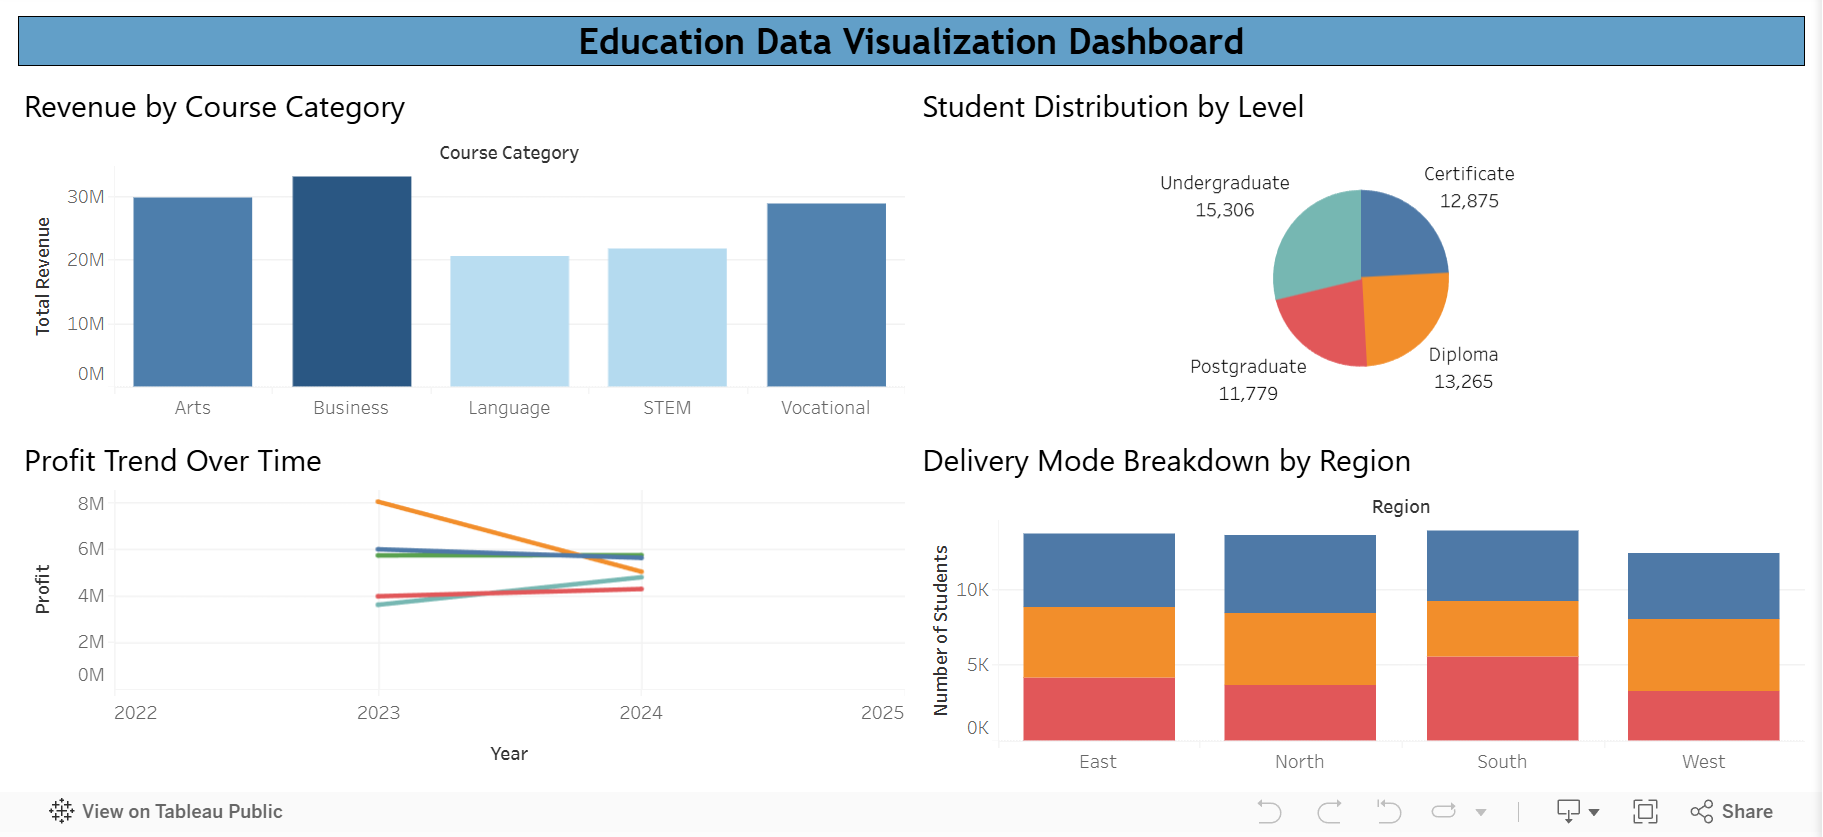

This screenshot's page, from the dashboard's own definition file:
{"tool":"tableau","page":{"name":"Dashboard 1","canvas":[1000,1000],"units":"permille","ordinal":0},"visuals":[{"type":"text","box":[5,10.7,990,79.1]},{"type":"worksheet","title":"Sheet 1","mark":"Automatic","rows":["Total_Revenue"],"cols":["Course_Category"],"box":[5,89.8,495,449.7]},{"type":"worksheet","title":"Sheet 4","mark":"Pie","box":[500,89.8,495,449.7]},{"type":"worksheet","title":"Sheet 3","mark":"Line","rows":["Profit"],"cols":["Year"],"box":[5,539.5,495,449.7]},{"type":"worksheet","title":"Sheet 2","mark":"Bar","rows":["Number_of_Students"],"cols":["Region"],"box":[500,539.5,495,449.7]}]}

Visuals, with their boxes on the dashboard's canvas, which has no fixed pixel size, in thousandths of its width and height (x1, y1, x2, y2). These are canvas units, not pixel positions in the 1823x837 screenshot, which may show the page scaled, cropped or inside an application window:
text: left=5, top=11, right=995, bottom=90
"Sheet 1" worksheet: left=5, top=90, right=500, bottom=540
"Sheet 4" worksheet (Pie marks): left=500, top=90, right=995, bottom=540
"Sheet 3" worksheet (Line marks): left=5, top=540, right=500, bottom=989
"Sheet 2" worksheet (Bar marks): left=500, top=540, right=995, bottom=989
